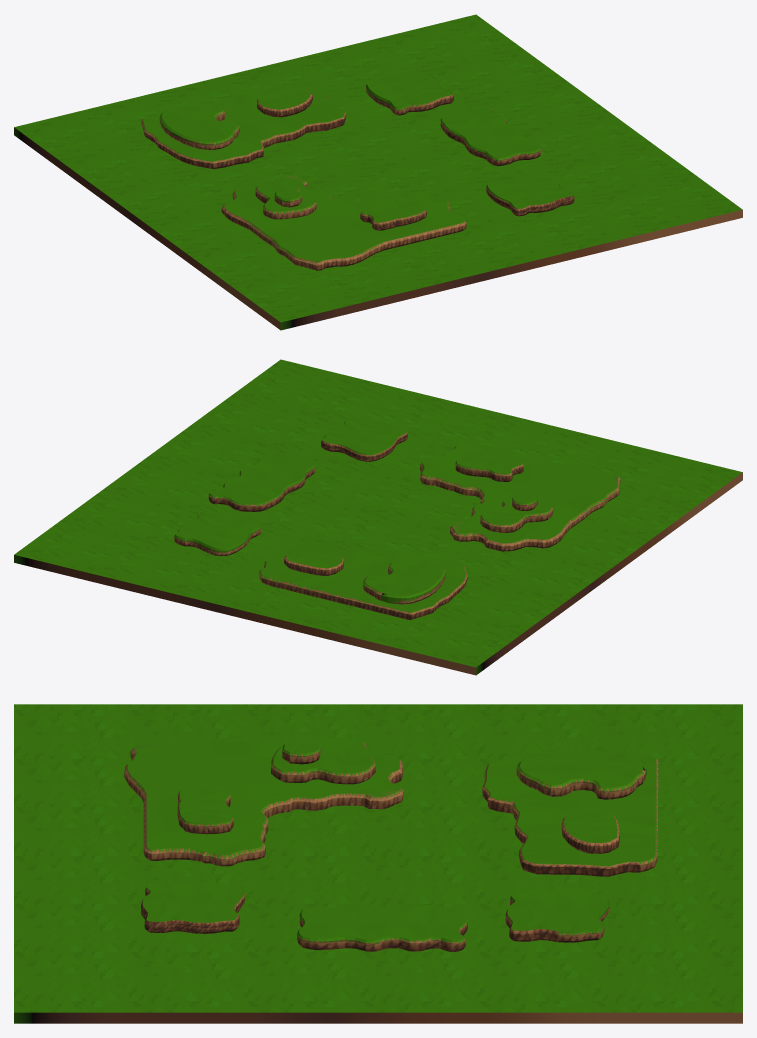
Rendered from HD2DGuSang.glb.
The picture shows the model from 3 angles, top to bottom: view 1: azimuth 30°, elevation 25°; view 2: azimuth 150°, elevation 25°; view 3: azimuth 270°, elevation 25°; orthographic projection. The views are drawn at different scales.
Visible parts, largest first — view 1: Cube, Cube.004, Cube.011, Cube.009, Cube.010, Cube.003, Cube.002, Cube.001, Cube.007, Cube.008; view 2: Cube, Cube.004, Cube.011, Cube.009, Cube.010, Cube.003, Cube.002, Cube.007, Cube.001, Cube.008; view 3: Cube, Cube.004, Cube.011, Cube.009, Cube.010, Cube.003, Cube.002, Cube.007, Cube.001, Cube.008, Cube.006.
Boxes of the visible parts, <box> form: Cube: <box>14,14,742,330</box>; Cube.004: <box>221,175,466,270</box>; Cube.011: <box>141,83,346,169</box>; Cube.009: <box>440,104,540,166</box>; Cube.010: <box>159,105,239,149</box>; Cube.003: <box>366,71,453,115</box>; Cube.002: <box>486,172,574,216</box>; Cube.001: <box>360,198,426,230</box>; Cube.007: <box>255,180,316,219</box>; Cube.008: <box>257,88,312,117</box>; Cube: <box>14,359,742,675</box>; Cube.004: <box>420,443,620,551</box>; Cube.011: <box>259,540,467,619</box>; Cube.009: <box>208,452,315,511</box>; Cube.010: <box>363,560,445,604</box>; Cube.003: <box>174,511,261,555</box>; Cube.002: <box>321,416,407,461</box>; Cube.007: <box>480,495,553,532</box>; Cube.001: <box>455,451,523,481</box>; Cube.008: <box>284,549,343,575</box>; Cube: <box>14,704,742,1023</box>; Cube.004: <box>124,738,403,866</box>; Cube.011: <box>482,752,658,876</box>; Cube.009: <box>297,904,467,951</box>; Cube.010: <box>516,749,646,799</box>; Cube.003: <box>505,891,609,942</box>; Cube.002: <box>141,883,244,933</box>; Cube.007: <box>271,745,375,784</box>; Cube.001: <box>177,787,233,834</box>; Cube.008: <box>561,810,619,853</box>; Cube.006: <box>282,740,320,764</box>.
Size of the model in its own units: 121 by 7.99 by 121.
Materials: 2 (2 with a texture image).
